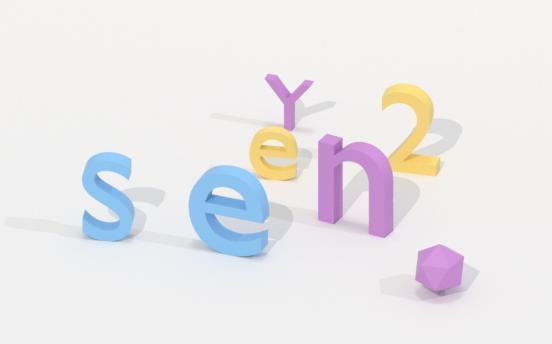chu_khoi: (318, 134, 393, 236), (189, 166, 268, 256), (82, 152, 134, 240), (265, 74, 313, 129), (249, 126, 297, 179)
da_giac: (415, 244, 463, 292)
so_khoi: (382, 83, 439, 175)
